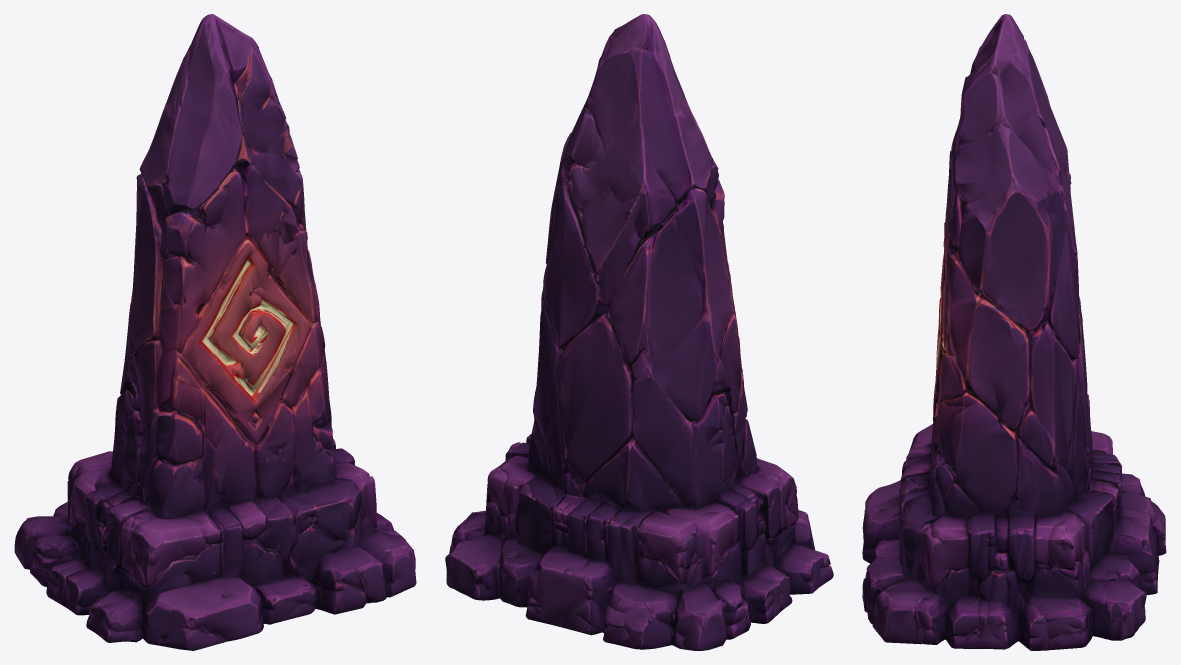
Rendered from obelisko_oscuro.glb.
The picture shows the model from 3 angles, left to right: view 1: azimuth 30°, elevation 25°; view 2: azimuth 150°, elevation 25°; view 3: azimuth 270°, elevation 25°; orthographic projection.
Parts seen in each view (by area): view 1: obelisko_oscuro; view 2: obelisko_oscuro; view 3: obelisko_oscuro.
Part boxes in pixels (box(x1,y1,x2,y2)): obelisko_oscuro: box(14, 14, 416, 650); obelisko_oscuro: box(445, 14, 833, 650); obelisko_oscuro: box(862, 14, 1166, 650).
Size of what is drawn, in the model's own units: 1.43 by 2.5 by 1.23.
Materials: 1 (1 with a texture image).
